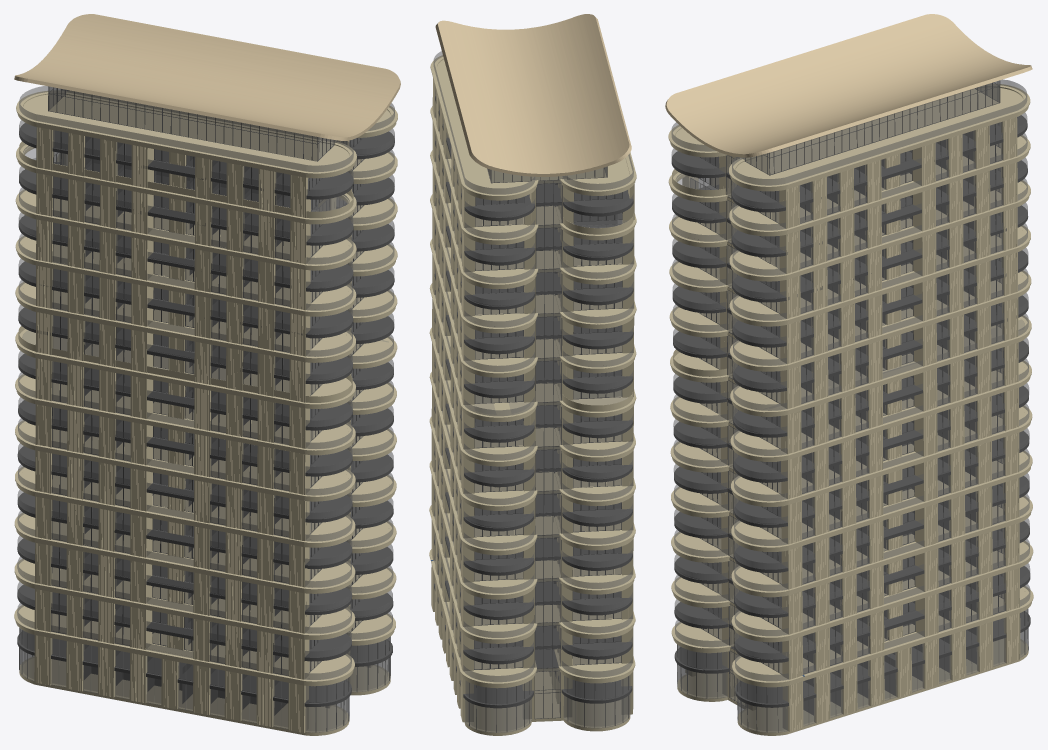
File: Monaco_B4_Import3DFiles2.glb
3 views of the same model, side by side, from view 1: azimuth 30°, elevation 25°; view 2: azimuth 150°, elevation 25°; view 3: azimuth 270°, elevation 25° (orthographic). The views are drawn at different scales.
Parts seen in each view (by area): view 1: mesh_material_from_multipatch_1, mesh_material_from_multipatch_5, mesh_material_from_multipatch_6, mesh_material_from_multipatch_2, mesh_material_from_multipatch_3, mesh_material_from_multipatch_4; view 2: mesh_material_from_multipatch_1, mesh_material_from_multipatch_5, mesh_material_from_multipatch_6, mesh_material_from_multipatch_3, mesh_material_from_multipatch_2, mesh_material_from_multipatch_4; view 3: mesh_material_from_multipatch_1, mesh_material_from_multipatch_5, mesh_material_from_multipatch_6, mesh_material_from_multipatch_2, mesh_material_from_multipatch_3, mesh_material_from_multipatch_4.
Part boxes in pixels (x1,y1,x2,y2): mesh_material_from_multipatch_1: [14, 90, 397, 735]; mesh_material_from_multipatch_5: [17, 86, 394, 729]; mesh_material_from_multipatch_6: [17, 86, 394, 732]; mesh_material_from_multipatch_2: [36, 127, 345, 732]; mesh_material_from_multipatch_3: [14, 14, 400, 140]; mesh_material_from_multipatch_4: [19, 86, 390, 732]; mesh_material_from_multipatch_1: [429, 55, 636, 735]; mesh_material_from_multipatch_5: [433, 51, 633, 719]; mesh_material_from_multipatch_6: [434, 96, 633, 732]; mesh_material_from_multipatch_3: [435, 14, 631, 176]; mesh_material_from_multipatch_2: [431, 78, 629, 720]; mesh_material_from_multipatch_4: [465, 166, 630, 732]; mesh_material_from_multipatch_1: [668, 83, 1033, 735]; mesh_material_from_multipatch_5: [671, 79, 1030, 726]; mesh_material_from_multipatch_6: [671, 80, 1030, 732]; mesh_material_from_multipatch_2: [693, 117, 1018, 731]; mesh_material_from_multipatch_3: [665, 14, 1032, 157]; mesh_material_from_multipatch_4: [677, 81, 1028, 732].
Size of the model in its own units: 43.33 by 86.33 by 48.86.
